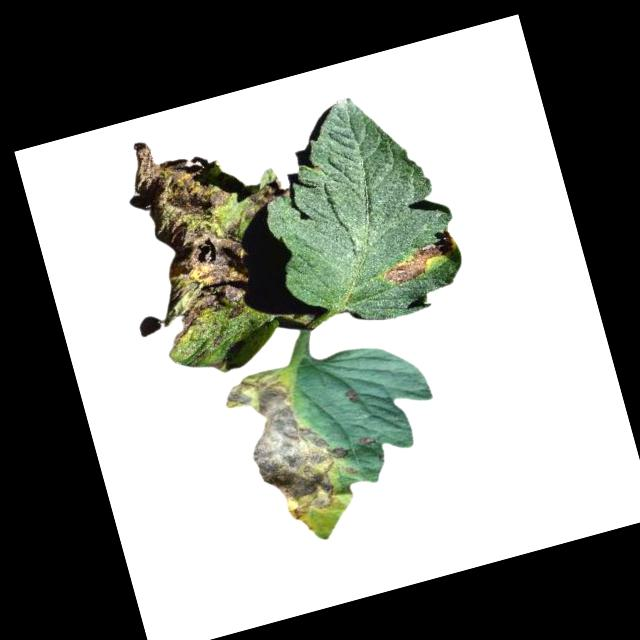Early_blight: (110, 121, 258, 339), (218, 353, 365, 531), (371, 229, 451, 289), (245, 178, 292, 207), (342, 384, 365, 410), (357, 432, 379, 449)
